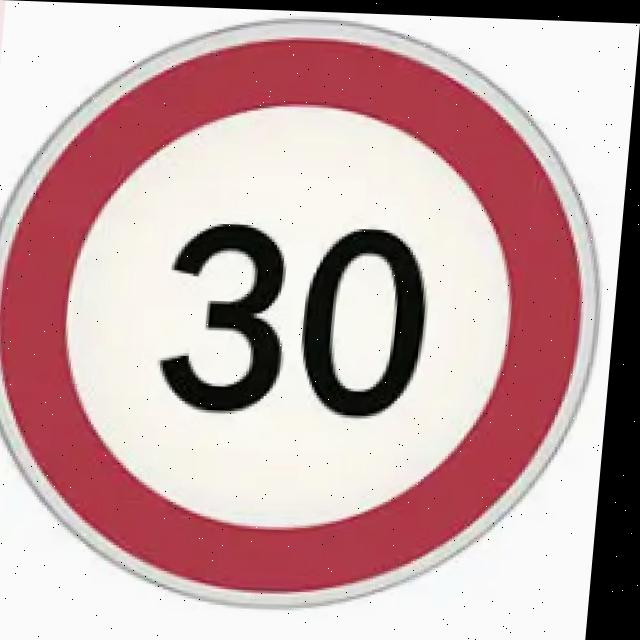Speed limit 30: (1, 4, 627, 617)
